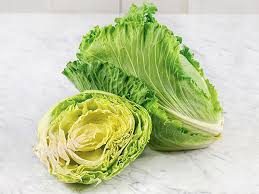cabbage: (63, 5, 238, 153), (33, 90, 161, 185)
